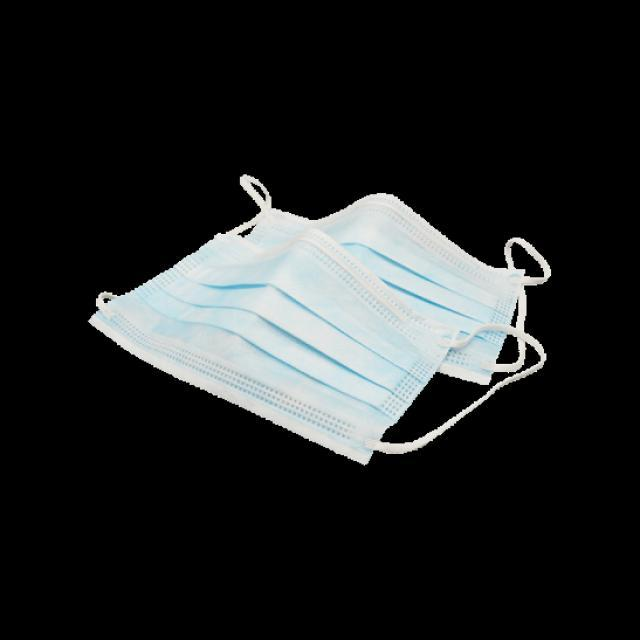face mask: (92, 179, 550, 469)
